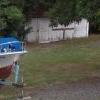Boat: (1, 29, 29, 83)
